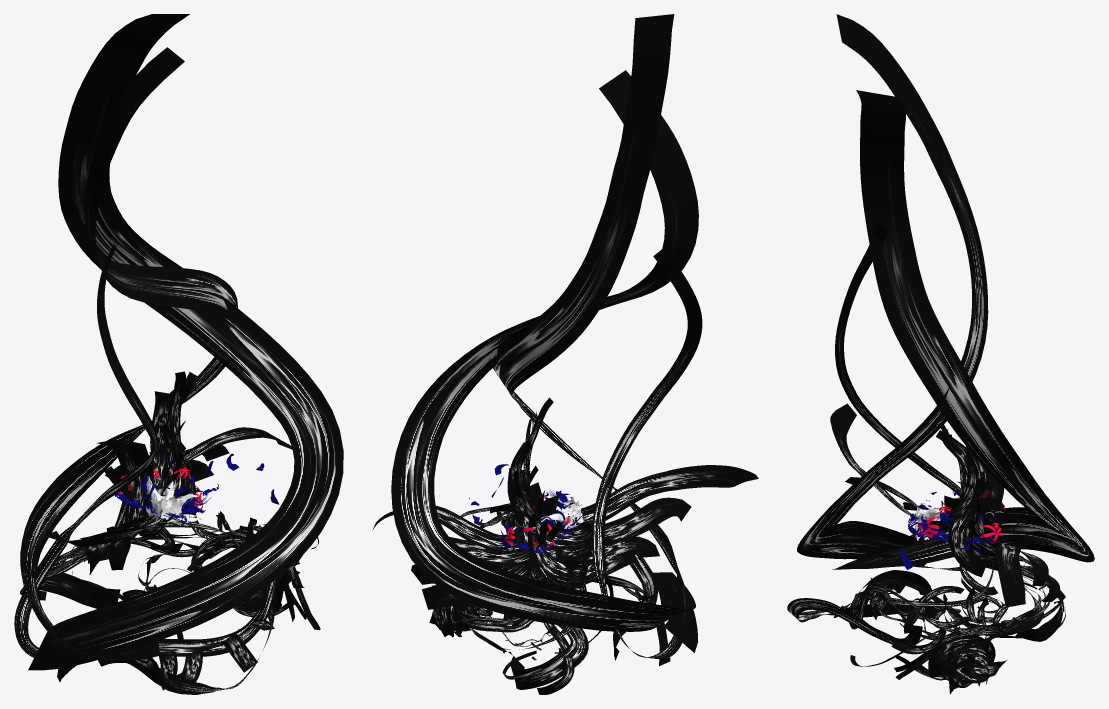
The picture shows the model from 3 angles, left to right: view 1: azimuth 30°, elevation 25°; view 2: azimuth 150°, elevation 25°; view 3: azimuth 270°, elevation 25°; orthographic projection. The views are drawn at different scales.
Visible parts, largest first — view 1: Untitled_2_Fire_geo, Untitled_2_DoubleTaperedFlat_geo, Untitled_2_TaperedFlat_geo; view 2: Untitled_2_Fire_geo, Untitled_2_DoubleTaperedFlat_geo, Untitled_2_TaperedFlat_geo; view 3: Untitled_2_Fire_geo, Untitled_2_DoubleTaperedFlat_geo.
Boxes of the visible parts, x1,y1,x2,y2 form: Untitled_2_Fire_geo: (14,14,343,694); Untitled_2_DoubleTaperedFlat_geo: (114,453,278,519); Untitled_2_TaperedFlat_geo: (146,476,201,523); Untitled_2_Fire_geo: (372,14,758,694); Untitled_2_DoubleTaperedFlat_geo: (469,464,577,553); Untitled_2_TaperedFlat_geo: (541,495,583,528); Untitled_2_Fire_geo: (787,14,1094,694); Untitled_2_DoubleTaperedFlat_geo: (858,489,1020,569).
Bounding box in the file's own units: 169 × 326 × 151.
5 materials, 3 textured.
